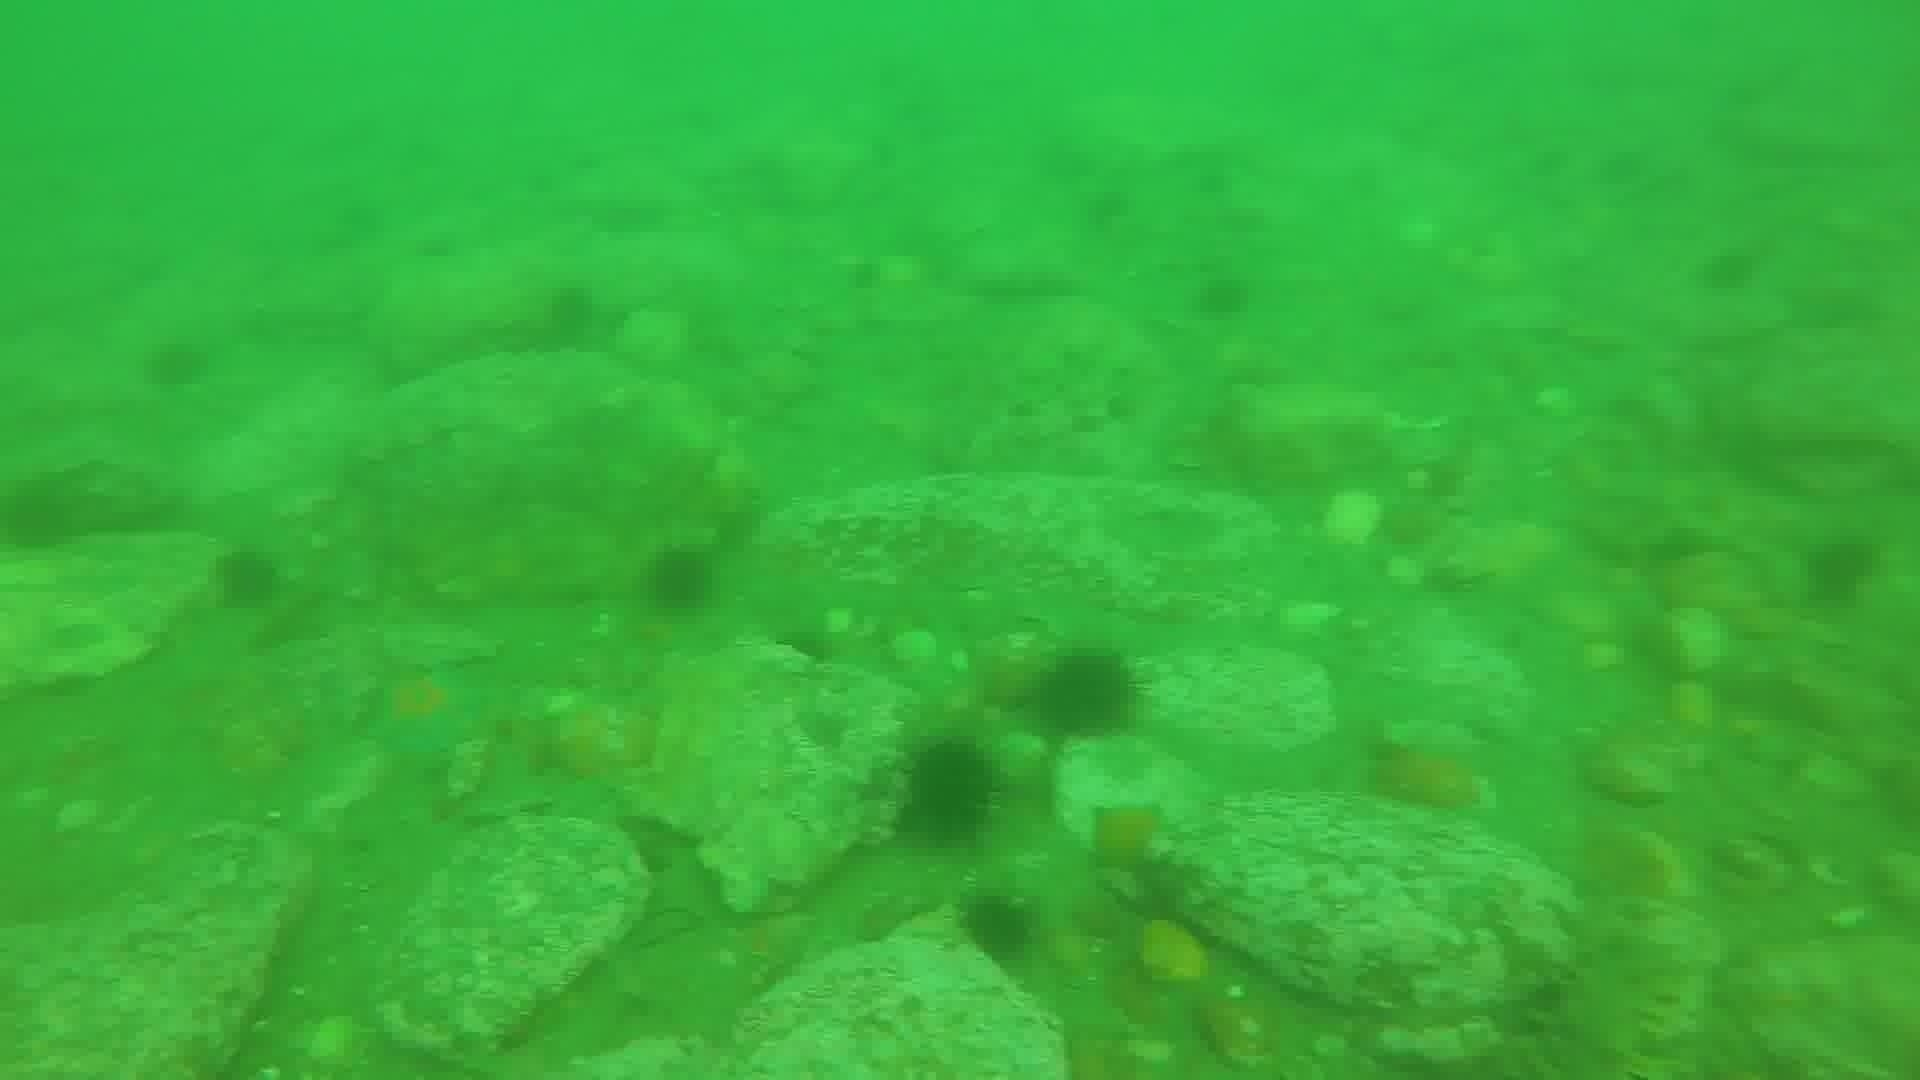echinus: (898, 735, 1004, 844), (1029, 646, 1142, 744), (955, 889, 1040, 969), (1799, 531, 1883, 611), (1, 477, 82, 559), (640, 542, 719, 617), (208, 545, 286, 613), (535, 280, 603, 352), (140, 334, 214, 396), (1695, 243, 1762, 299), (1189, 269, 1255, 324)
holothurian: (1539, 884, 1675, 1077)
starfish: (361, 665, 492, 765), (1083, 795, 1174, 877)
